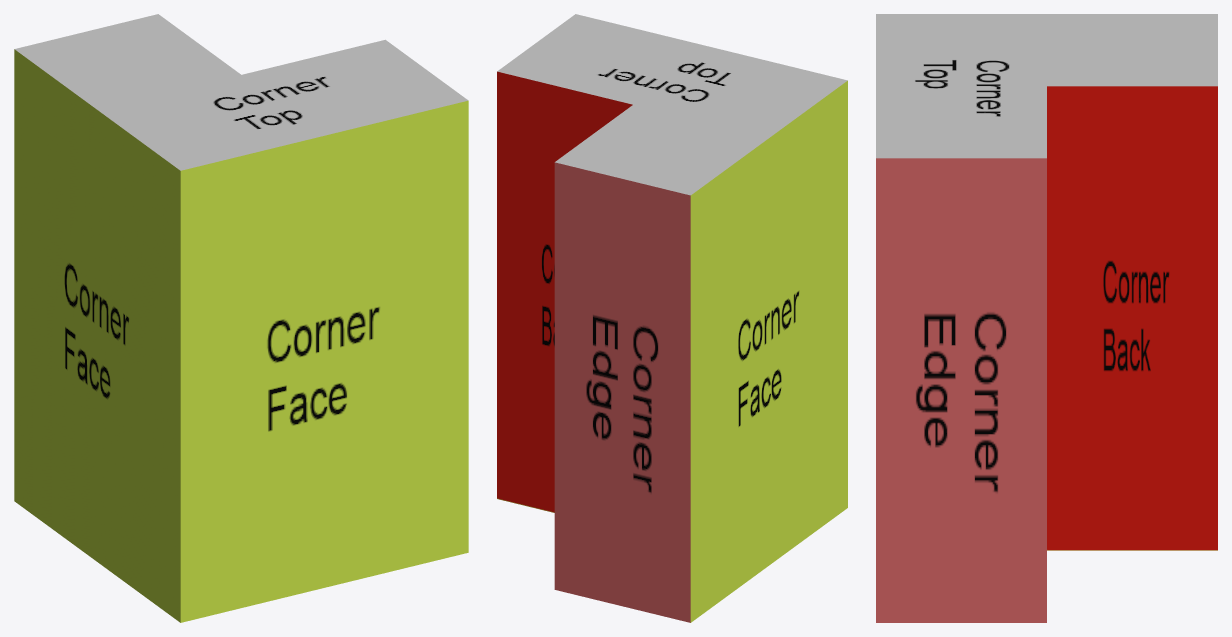
The model's file is CornerOuter_Temp.FBX.
3 views of the same model, side by side, from view 1: azimuth 30°, elevation 25°; view 2: azimuth 150°, elevation 25°; view 3: azimuth 270°, elevation 25° (orthographic). The views are drawn at different scales.
Visible parts, largest first — view 1: Box003; view 2: Box003; view 3: Box003.
Part boxes in pixels (x1=…): Box003: x1=14, y1=14, x2=468, y2=622; Box003: x1=497, y1=14, x2=847, y2=622; Box003: x1=876, y1=14, x2=1217, y2=622.
Size of the model in its own units: 200 by 300 by 200.
